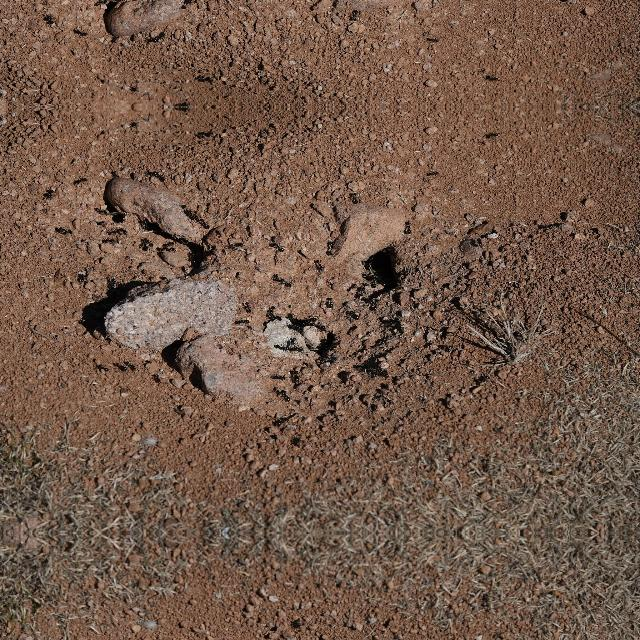Messor: (149, 22, 173, 46), (149, 167, 173, 190), (136, 224, 154, 248), (90, 202, 106, 228), (268, 306, 286, 328), (193, 212, 214, 230), (278, 272, 294, 294), (265, 240, 285, 256), (70, 170, 90, 186), (70, 26, 90, 42), (40, 184, 56, 202), (348, 190, 366, 206), (40, 10, 56, 28), (348, 6, 366, 22), (99, 235, 119, 249), (179, 203, 195, 219), (150, 371, 166, 387), (240, 299, 256, 315), (273, 413, 291, 427), (279, 341, 301, 352), (312, 255, 324, 275), (54, 224, 74, 236), (400, 215, 414, 232), (286, 332, 300, 348), (345, 308, 361, 322), (308, 321, 328, 332), (324, 235, 336, 253), (228, 238, 246, 250), (162, 242, 180, 254), (124, 354, 136, 372), (422, 165, 440, 177), (482, 126, 500, 138), (300, 314, 318, 326), (422, 35, 440, 47), (482, 74, 500, 86), (280, 388, 294, 402), (270, 368, 284, 382), (362, 364, 376, 378), (75, 268, 87, 284), (544, 218, 560, 230), (267, 624, 279, 640), (235, 316, 253, 326), (114, 360, 128, 372), (267, 426, 279, 440), (472, 234, 486, 246), (159, 238, 175, 248), (284, 312, 300, 322), (327, 294, 337, 310), (200, 126, 212, 138), (290, 367, 302, 379), (179, 0, 195, 9), (200, 74, 212, 86), (114, 224, 128, 234), (90, 0, 105, 9), (382, 364, 391, 378), (175, 106, 195, 112), (106, 225, 118, 235), (138, 240, 148, 252), (98, 364, 110, 374), (360, 282, 370, 294), (175, 100, 195, 106), (373, 274, 381, 288), (346, 280, 356, 290), (286, 322, 298, 330)
